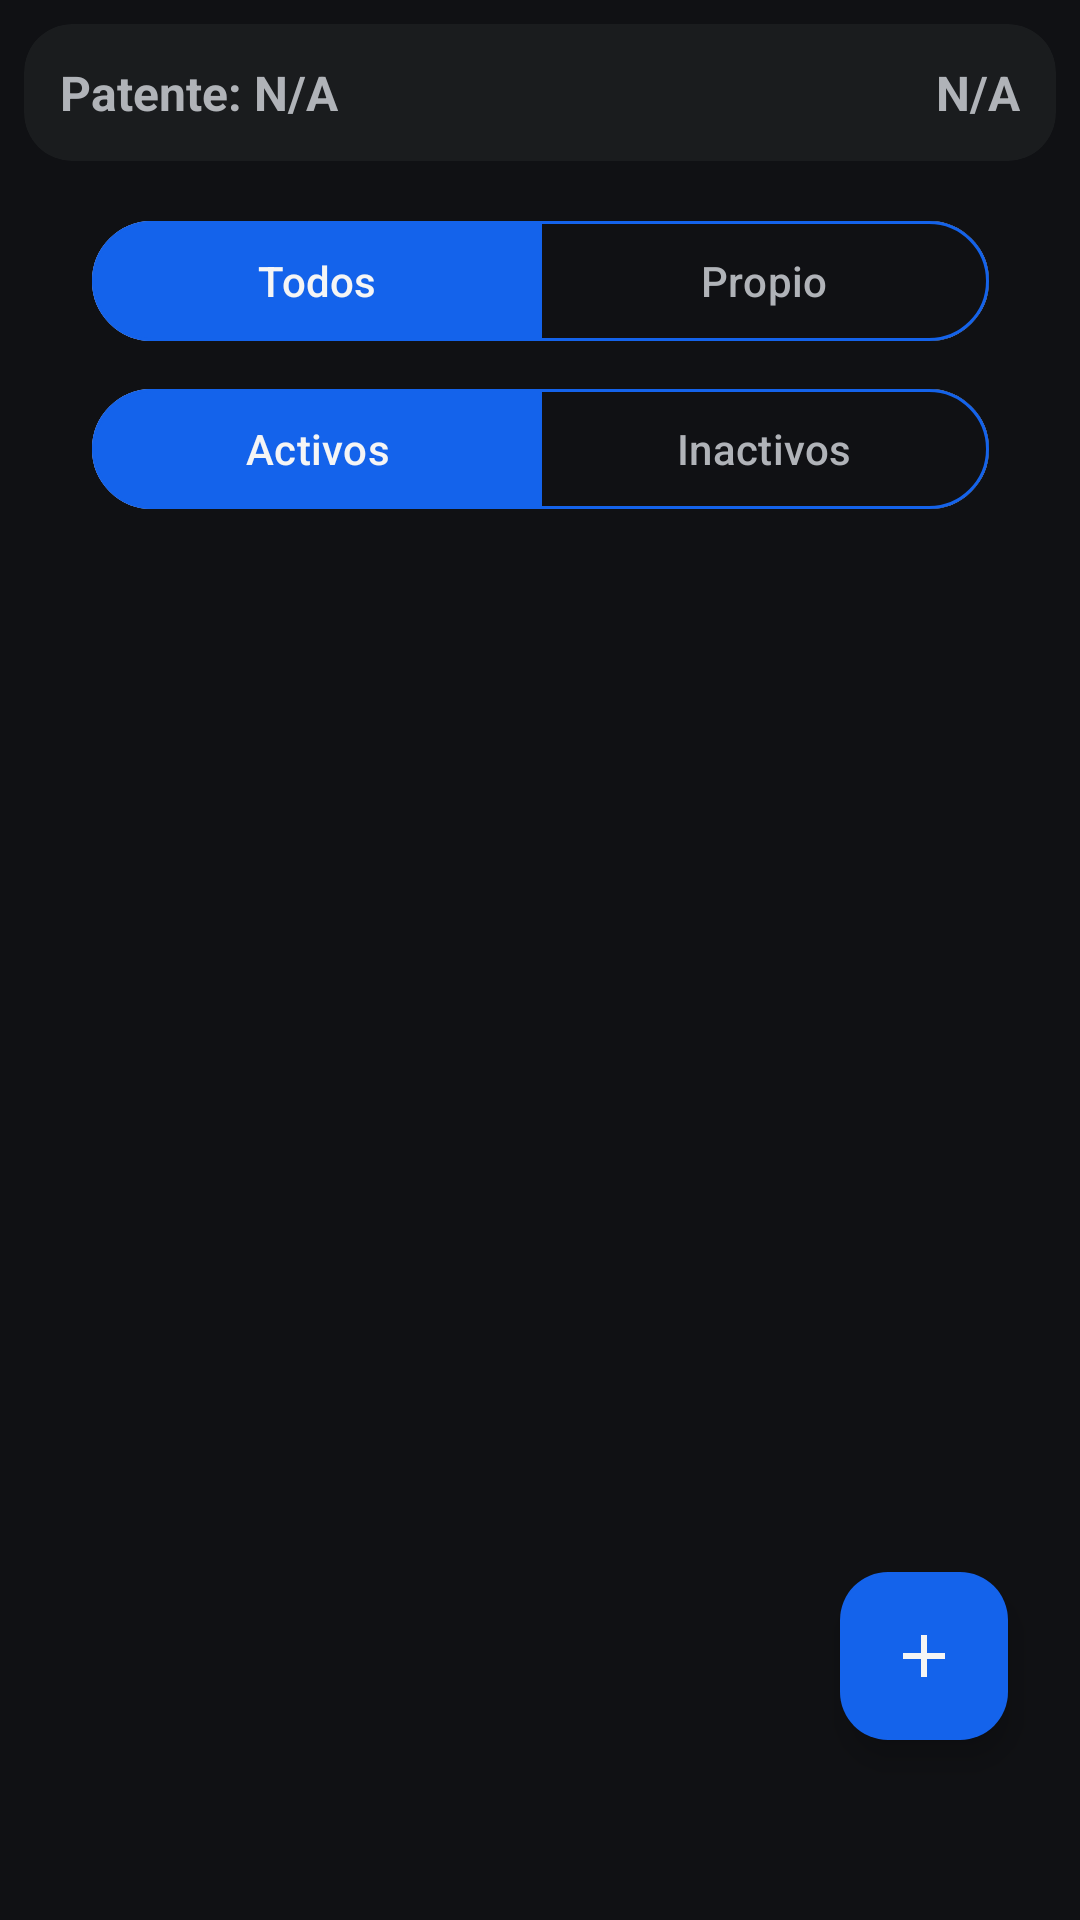

Screen size 1080w x 1920h. Icon name, then its center in pixels as (x=x, y=y):
Nueva Revisión: (x=924, y=1656)
